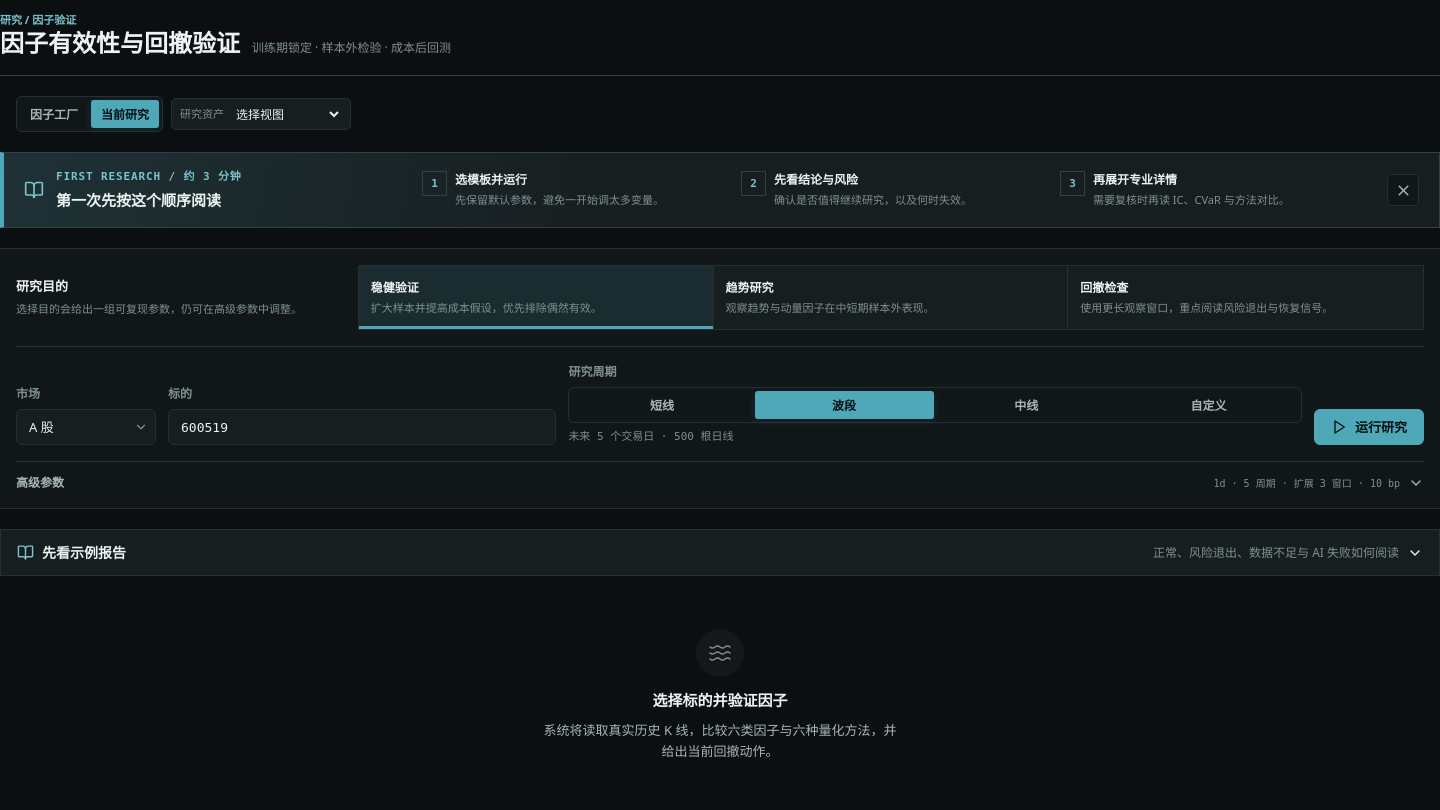
Test case: FactorResearchPage › does not submit an AI review for an unsaved statistical result
Click the button "运行研究" at (1369, 427), box [1314,409,1424,445]
(page scrolled)
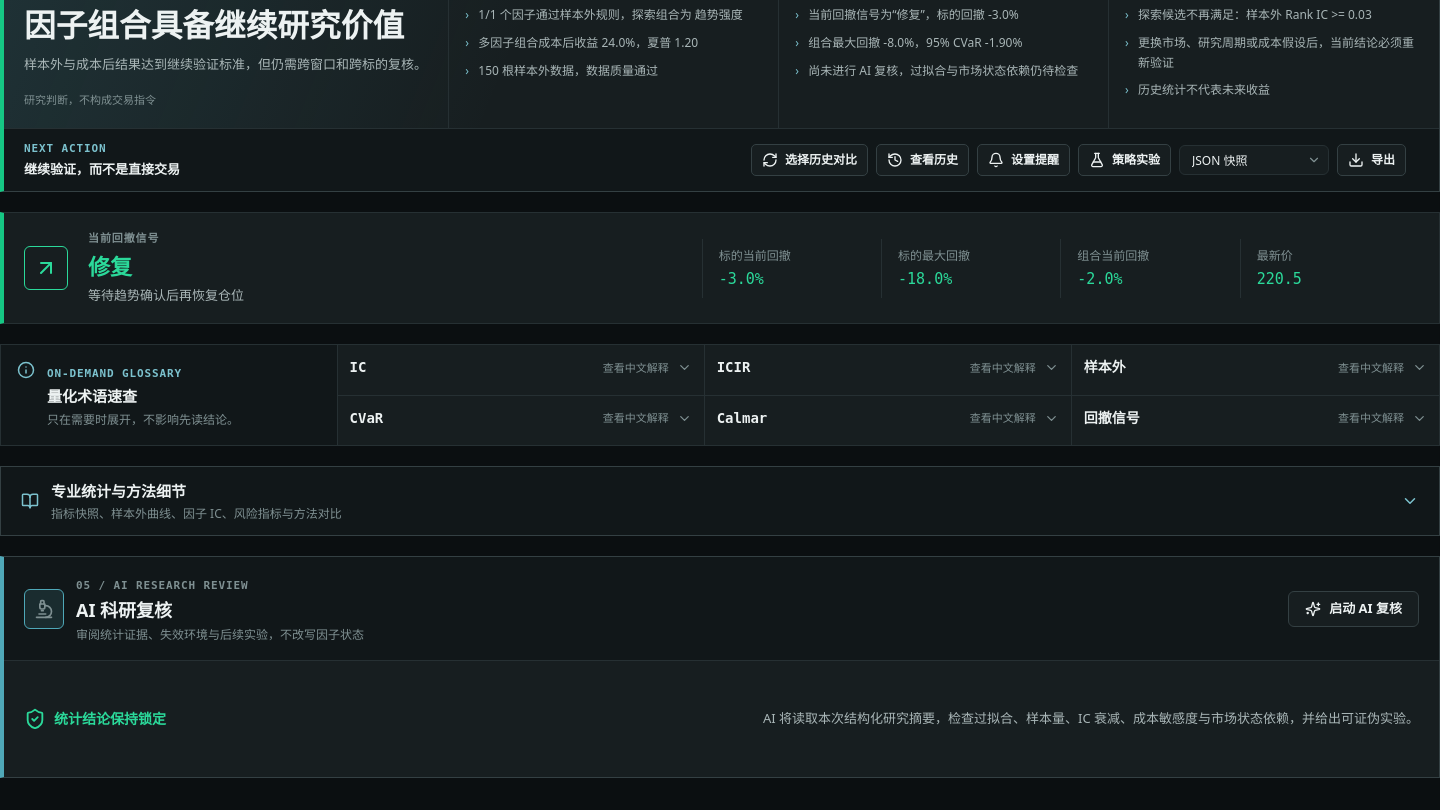
Expected: the heading "AI 科研复核" is shown, [76,598,172,622]
Click the button "启动 AI 复核" at (1354, 609), box [1288,591,1419,627]
(page scrolled)
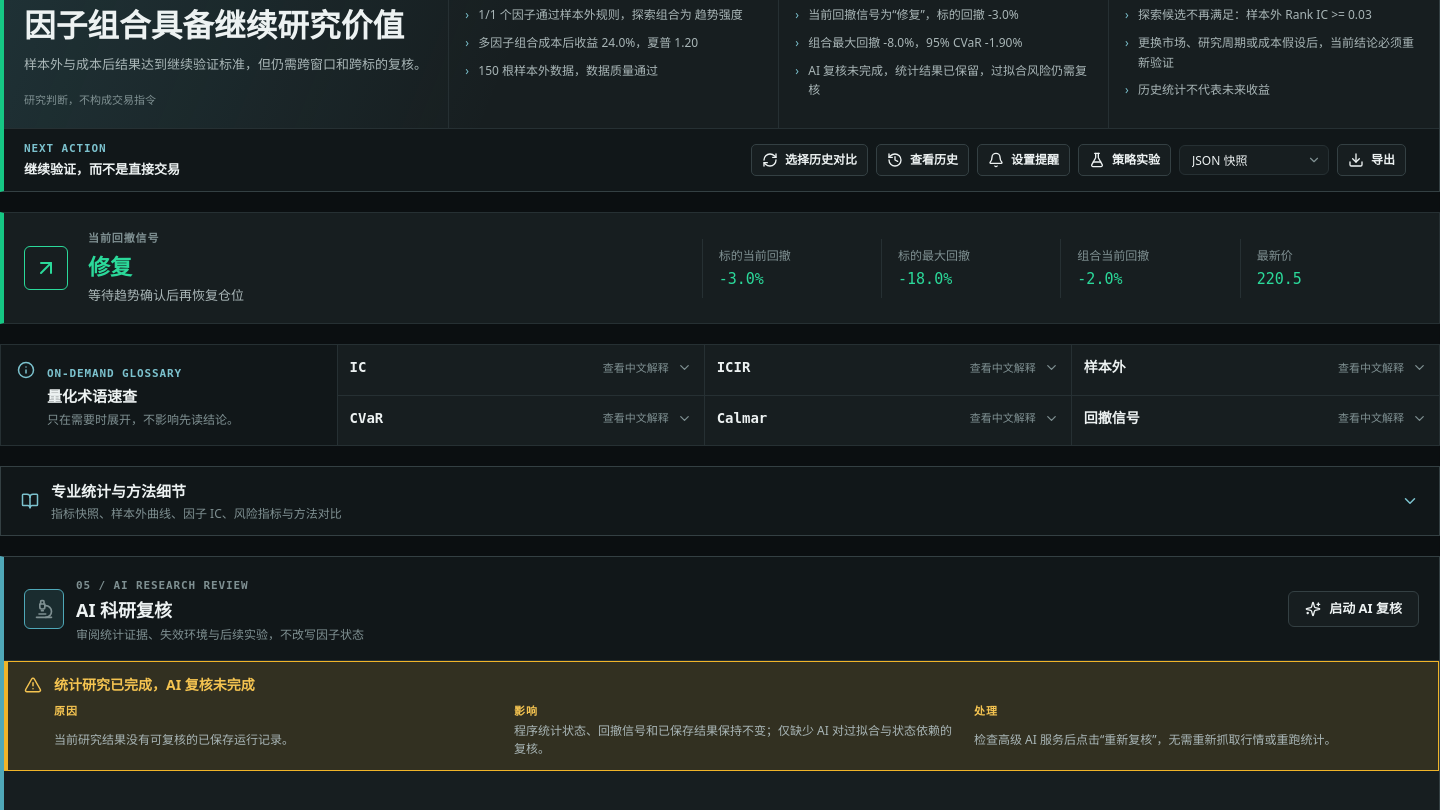
Expected: the text "当前研究结果没有可复核的已保存运行记录。" is shown, [54,731,294,748]
